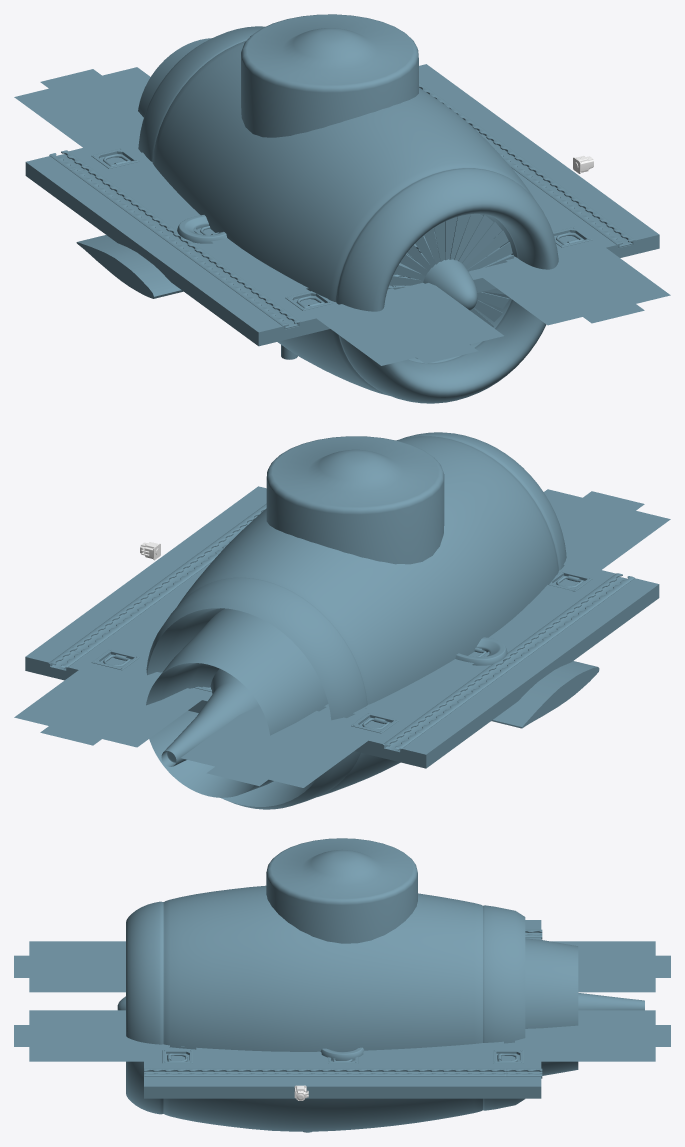
The model's file is elementsmid.fbx.
3 renders of one model, top to bottom at view 1: azimuth 30°, elevation 25°; view 2: azimuth 150°, elevation 25°; view 3: azimuth 270°, elevation 25°, orthographic. The views are drawn at different scales.
Visible parts, largest first — view 1: Cylinder.013_69, Object_74, Object_243, aerofoil_laminar flow_8, Object_206; view 2: Cylinder.013_69, Object_74, Object_243, aerofoil_laminar flow_8, Object_206; view 3: Cylinder.013_69, Object_74, Object_243.
Part boxes in pixels (bbox=[...]): Cylinder.013_69: bbox=[138, 26, 558, 403]; Object_74: bbox=[14, 64, 670, 365]; Object_243: bbox=[241, 14, 418, 359]; aerofoil_laminar flow_8: bbox=[76, 235, 183, 298]; Object_206: bbox=[177, 215, 226, 243]; Cylinder.013_69: bbox=[146, 432, 566, 809]; Object_74: bbox=[14, 486, 670, 787]; Object_243: bbox=[266, 436, 444, 564]; aerofoil_laminar flow_8: bbox=[491, 661, 599, 728]; Object_206: bbox=[455, 637, 507, 665]; Cylinder.013_69: bbox=[117, 885, 644, 1131]; Object_74: bbox=[14, 920, 670, 1098]; Object_243: bbox=[266, 838, 417, 1132].
Size of the model in its own units: 1064 by 713 by 465.
